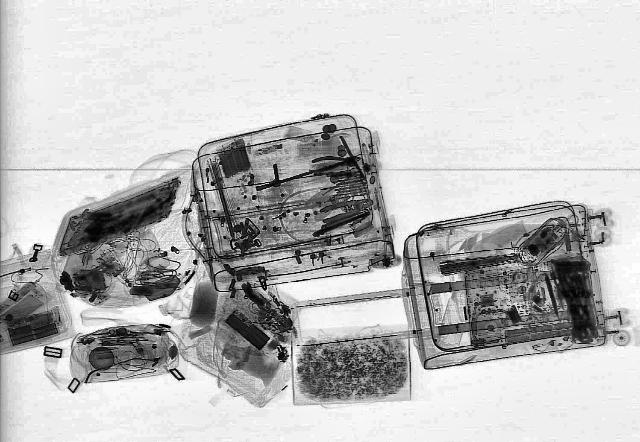Pliers: (312, 194, 378, 224), (306, 151, 362, 173)
